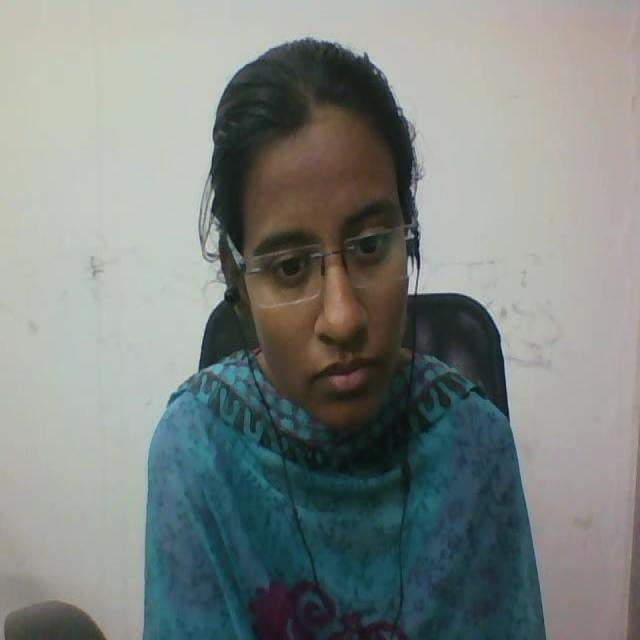Bored: (187, 35, 448, 454)
